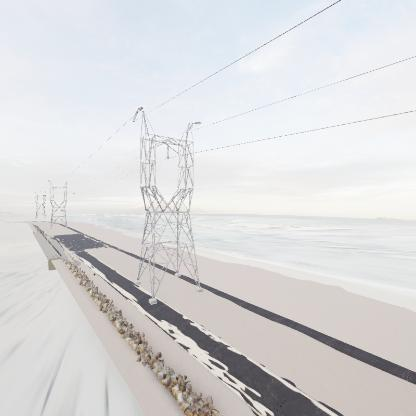tower: (130, 102, 206, 308), (47, 180, 72, 229)
